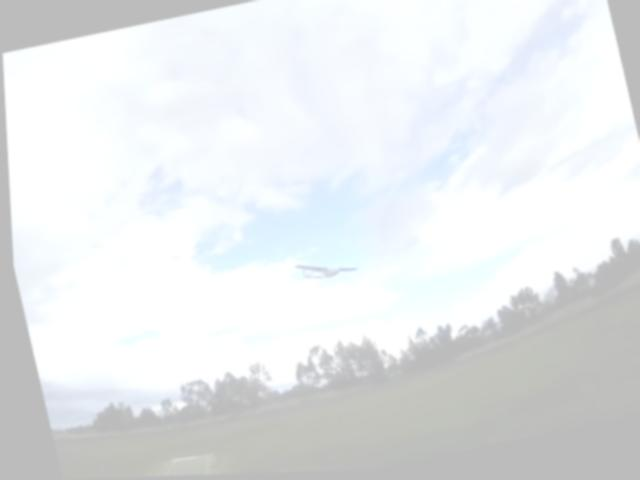uav: (289, 249, 359, 291)
